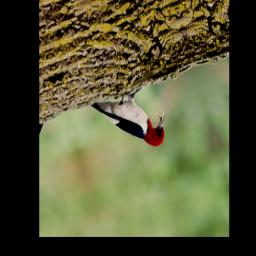Woodpecker: (91, 80, 172, 165)
